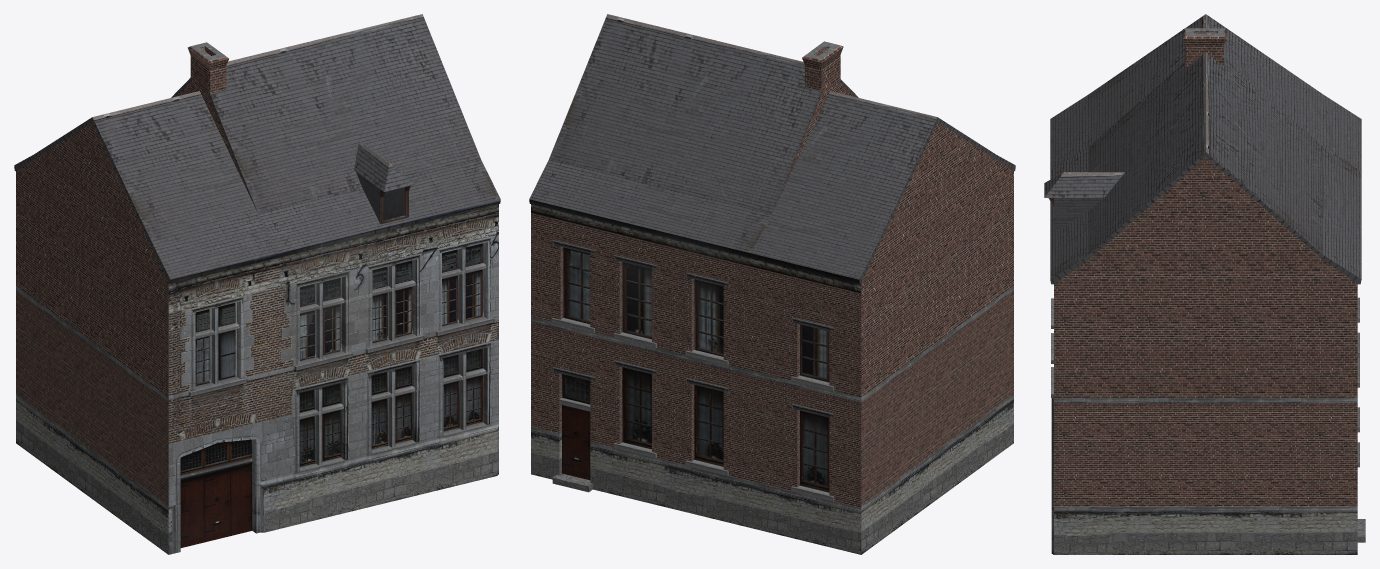
The model's file is nivelles_house_1_belgium.glb.
3 views of the same model, side by side, from view 1: azimuth 30°, elevation 25°; view 2: azimuth 150°, elevation 25°; view 3: azimuth 270°, elevation 25° (orthographic).
Parts seen in each view (by area): view 1: 2.0_2.0_0; view 2: 2.0_2.0_0; view 3: 2.0_2.0_0.
Boxes of the visible parts, x1,y1,x2,y2 form: 2.0_2.0_0: (14,14,500,554); 2.0_2.0_0: (529,14,1015,554); 2.0_2.0_0: (1044,14,1365,554).
Bounding box in the file's own units: 10 × 12.16 × 8.47.
Materials: 1 (1 with a texture image).
